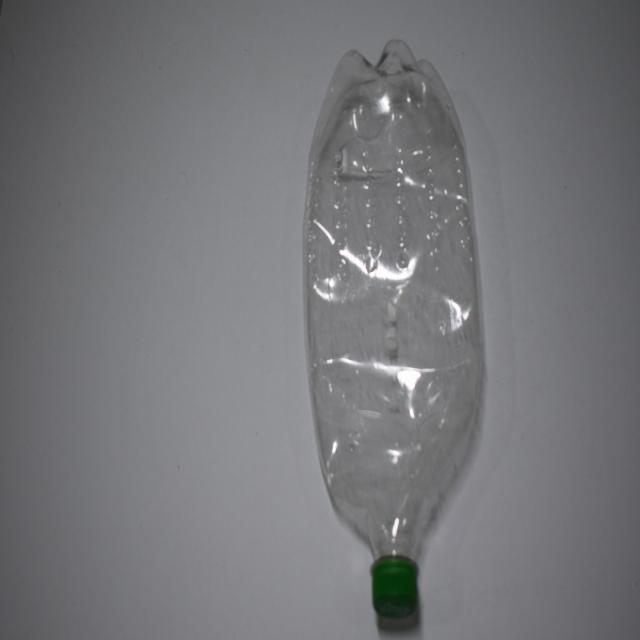empty: (303, 40, 484, 622)
